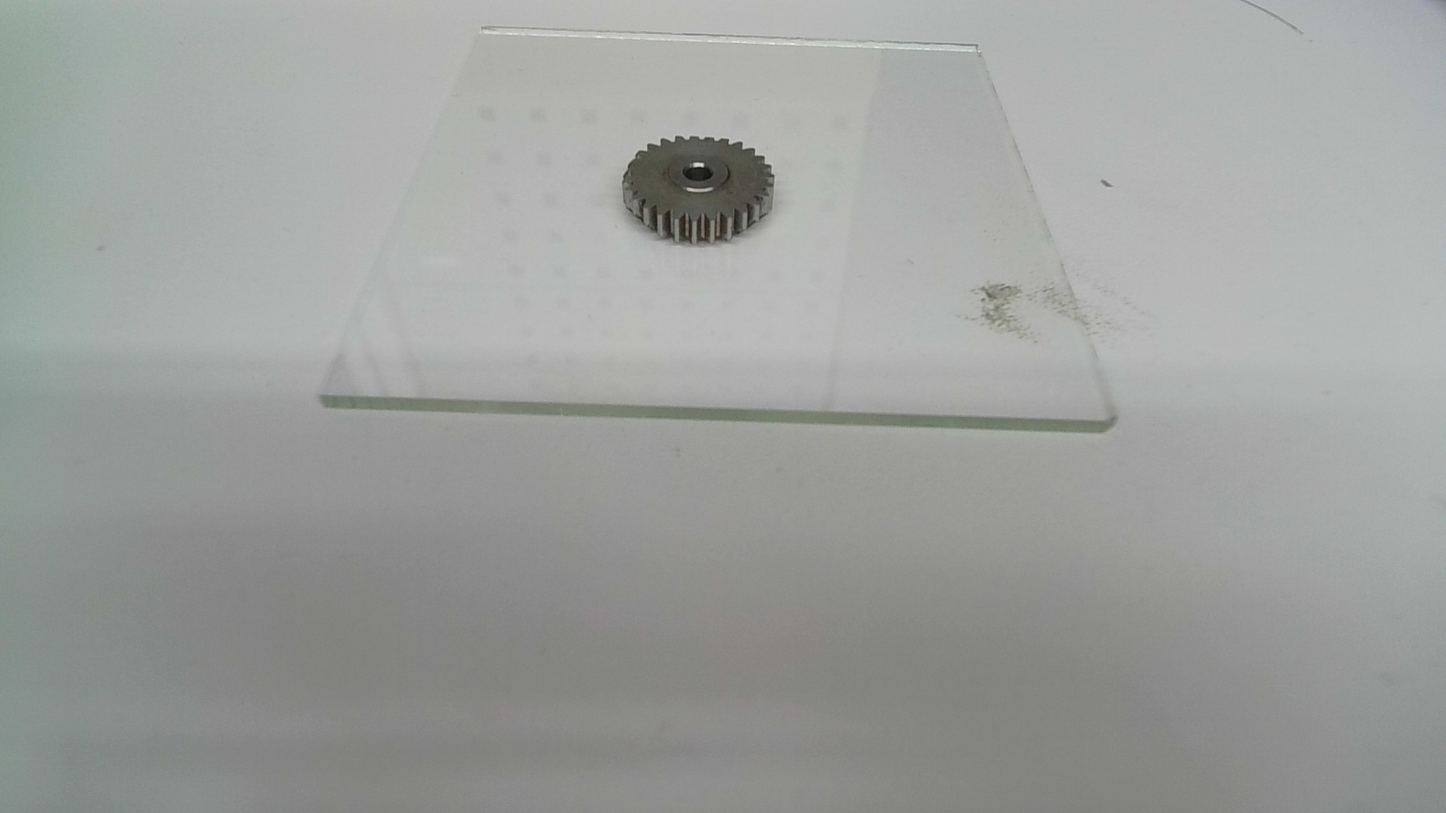gear: (620, 133, 776, 245)
